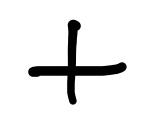plus: (28, 20, 126, 105)
